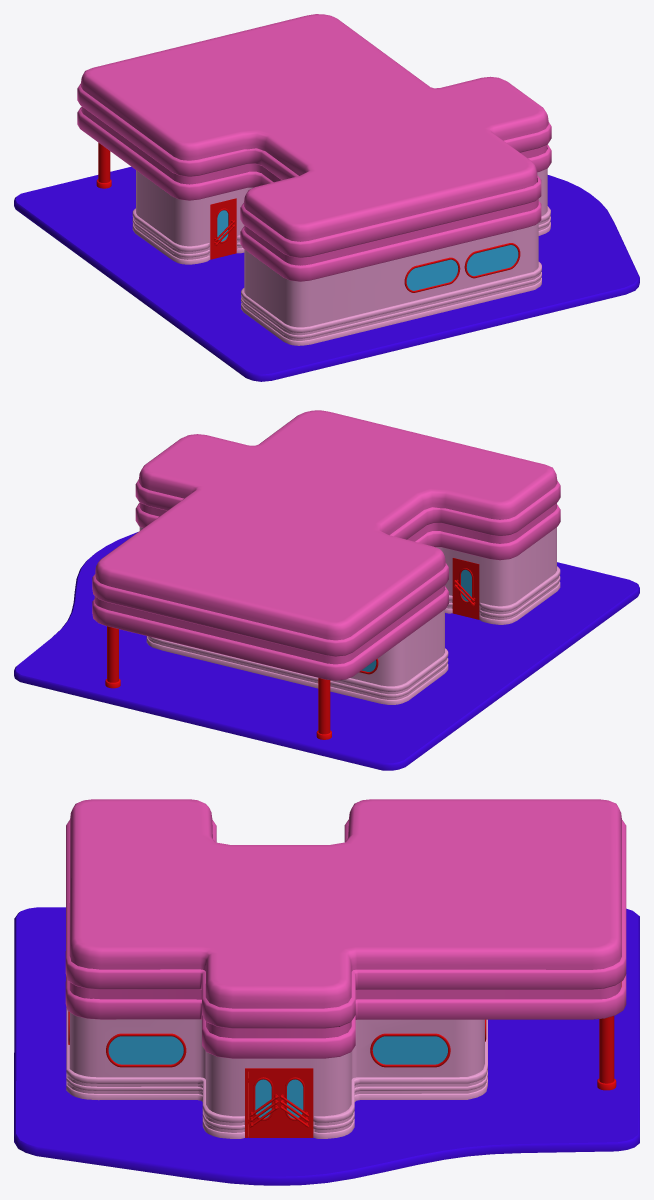
File: props_Diner V3.fbx
3 renders of one model, top to bottom at view 1: azimuth 30°, elevation 25°; view 2: azimuth 150°, elevation 25°; view 3: azimuth 270°, elevation 25°, orthographic. The views are drawn at different scales.
Parts seen in each view (by area): view 1: Haut.Low, Trotoir.Low, ContourPlafon1.Low, Mur.Low, BordureBas.Low, HautNeon.Low, Vitre.Low, Porte2Ar.Low.001, Fenetre.Low, Pilones.Low; view 2: Haut.Low, Trotoir.Low, ContourPlafon1.Low, Mur.Low, BordureBas.Low, HautNeon.Low, Pilones.Low, PorteAr.Low.001; view 3: Haut.Low, Trotoir.Low, ContourPlafon1.Low, Mur.Low, BordureBas.Low, HautNeon.Low, Vitre.Low, Vitre.Low.004, PortAv2.Low.001, Fenetre.Low, Pilones.Low, ContourPorte.Low.001.
Part boxes in pixels (<box>): Haut.Low: <box>81,14,548,241</box>; Trotoir.Low: <box>14,166,639,381</box>; ContourPlafon1.Low: <box>77,83,551,281</box>; Mur.Low: <box>136,168,547,327</box>; BordureBas.Low: <box>132,206,550,345</box>; HautNeon.Low: <box>81,106,547,265</box>; Vitre.Low: <box>406,245,518,290</box>; Porte2Ar.Low.001: <box>213,201,235,258</box>; Fenetre.Low: <box>404,243,520,292</box>; Pilones.Low: <box>96,142,111,188</box>; Haut.Low: <box>95,410,557,640</box>; Trotoir.Low: <box>14,532,639,770</box>; ContourPlafon1.Low: <box>92,479,560,680</box>; Mur.Low: <box>139,527,556,686</box>; BordureBas.Low: <box>146,566,560,704</box>; HautNeon.Low: <box>94,503,556,664</box>; Pilones.Low: <box>105,626,331,739</box>; PorteAr.Low.001: <box>454,561,476,619</box>; Haut.Low: <box>69,799,621,1008</box>; Trotoir.Low: <box>14,907,639,1185</box>; ContourPlafon1.Low: <box>65,819,626,1058</box>; Mur.Low: <box>69,1012,484,1132</box>; BordureBas.Low: <box>66,1007,487,1138</box>; HautNeon.Low: <box>69,981,621,1038</box>; Vitre.Low: <box>108,1036,447,1064</box>; Vitre.Low.004: <box>248,1071,279,1137</box>; PortAv2.Low.001: <box>279,1071,309,1137</box>; Fenetre.Low: <box>68,1011,486,1067</box>; Pilones.Low: <box>597,1016,616,1090</box>; ContourPorte.Low.001: <box>245,1068,313,1137</box>.
Size of the model in its own units: 2111 by 563 by 2059.
